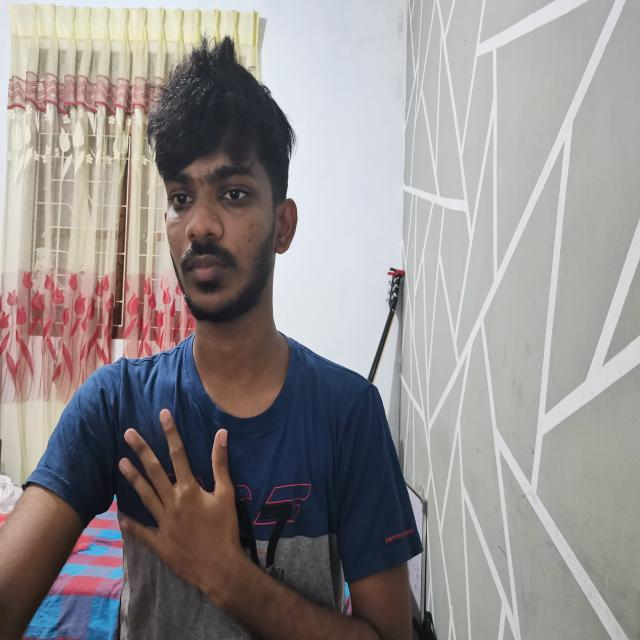Please: (119, 402, 428, 640)
